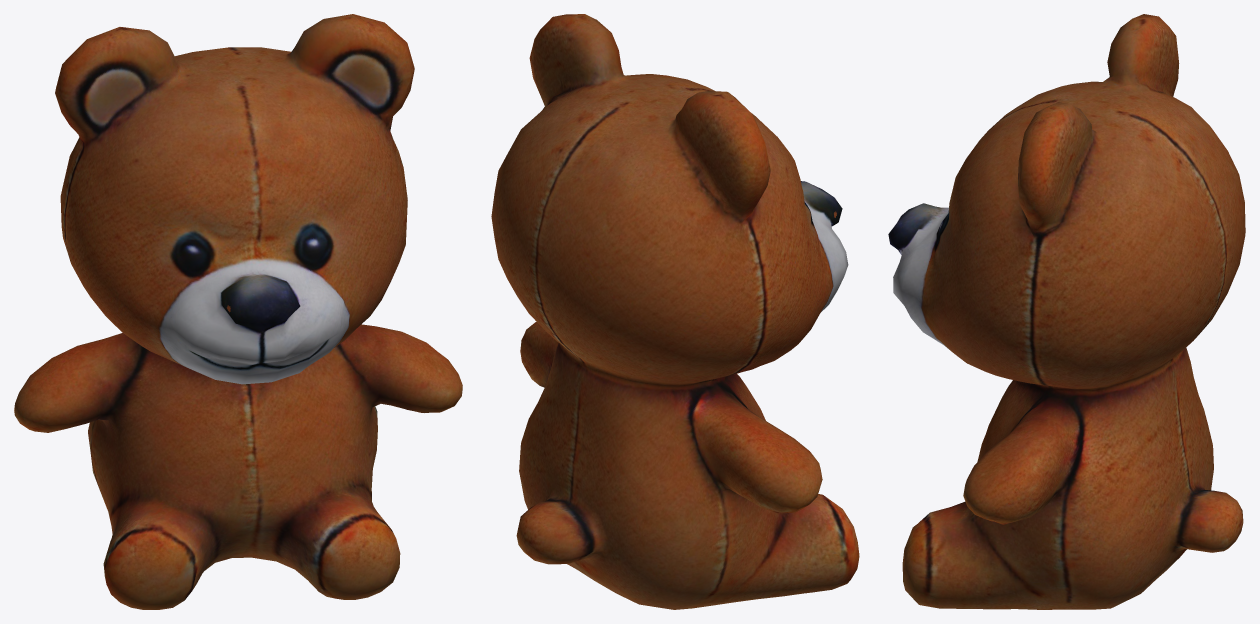
Rendered from uploads_files_5157410_teddy_LP.obj.
The picture shows the model from 3 angles, left to right: view 1: azimuth 30°, elevation 25°; view 2: azimuth 150°, elevation 25°; view 3: azimuth 270°, elevation 25°; orthographic projection.
Parts seen in each view (by area): view 1: mesh; view 2: mesh; view 3: mesh.
Boxes of the visible parts, x1,y1,x2,y2 form: mesh: [14, 14, 462, 609]; mesh: [491, 14, 859, 609]; mesh: [888, 14, 1245, 609].
Size of the model in its own units: 0.7202 by 0.9974 by 0.6172.
